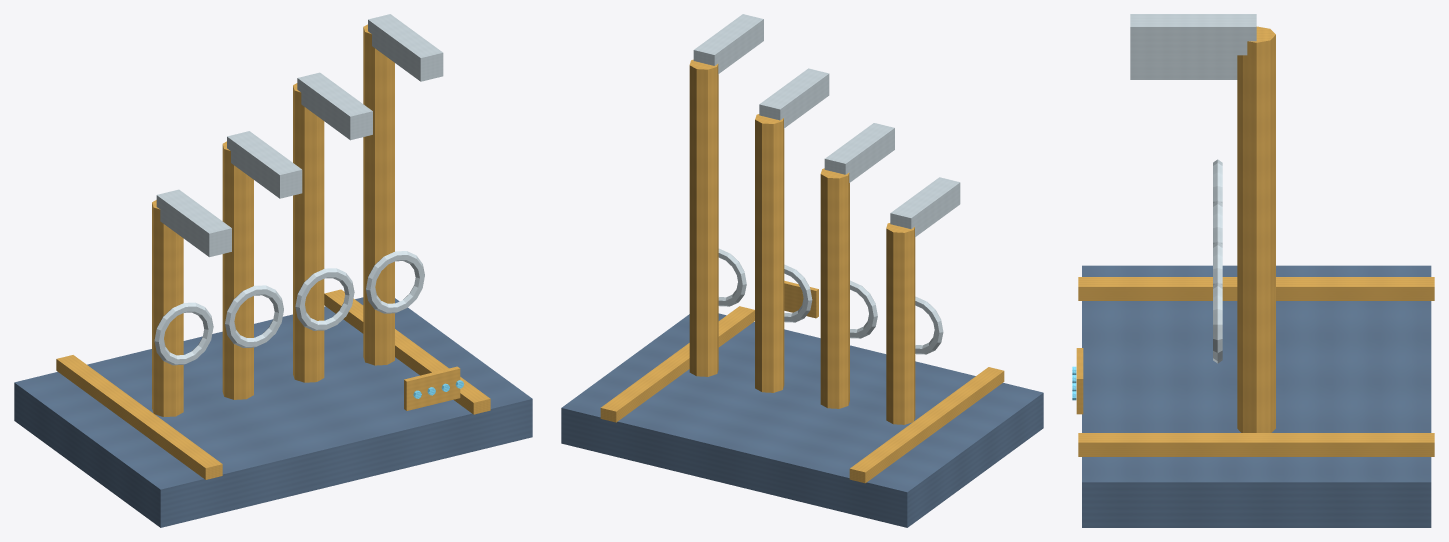
The model's file is atlas100-s054-a02.glb.
3 renders of one model, left to right at view 1: azimuth 30°, elevation 25°; view 2: azimuth 150°, elevation 25°; view 3: azimuth 270°, elevation 25°, orthographic. The views are drawn at different scales.
Parts seen in each view (by area): view 1: atlas100-s054-a02:part-000, atlas100-s054-a02:part-012, atlas100-s054-a02:part-009, atlas100-s054-a02:part-006, atlas100-s054-a02:part-003, atlas100-s054-a02:part-001, atlas100-s054-a02:part-011, atlas100-s054-a02:part-014, atlas100-s054-a02:part-005, atlas100-s054-a02:part-008, atlas100-s054-a02:part-002, atlas100-s054-a02:part-015 (+4 smaller); view 2: atlas100-s054-a02:part-000, atlas100-s054-a02:part-012, atlas100-s054-a02:part-009, atlas100-s054-a02:part-006, atlas100-s054-a02:part-003, atlas100-s054-a02:part-001, atlas100-s054-a02:part-002, atlas100-s054-a02:part-011, atlas100-s054-a02:part-008, atlas100-s054-a02:part-005, atlas100-s054-a02:part-014, atlas100-s054-a02:part-015 (+4 smaller); view 3: atlas100-s054-a02:part-000, atlas100-s054-a02:part-012, atlas100-s054-a02:part-002, atlas100-s054-a02:part-001, atlas100-s054-a02:part-014, atlas100-s054-a02:part-008, atlas100-s054-a02:part-005, atlas100-s054-a02:part-011, atlas100-s054-a02:part-013, atlas100-s054-a02:part-015.
Part boxes in pixels (x1,y1,x2,y2): atlas100-s054-a02:part-000: [14, 297, 532, 527]; atlas100-s054-a02:part-012: [363, 24, 394, 365]; atlas100-s054-a02:part-009: [293, 83, 324, 382]; atlas100-s054-a02:part-006: [222, 141, 253, 399]; atlas100-s054-a02:part-003: [152, 200, 183, 416]; atlas100-s054-a02:part-001: [56, 355, 222, 479]; atlas100-s054-a02:part-011: [297, 72, 372, 140]; atlas100-s054-a02:part-014: [368, 14, 443, 81]; atlas100-s054-a02:part-005: [156, 189, 231, 257]; atlas100-s054-a02:part-008: [227, 131, 302, 198]; atlas100-s054-a02:part-002: [324, 289, 490, 414]; atlas100-s054-a02:part-015: [404, 366, 460, 410]; atlas100-s054-a02:part-000: [561, 313, 1043, 527]; atlas100-s054-a02:part-012: [689, 59, 718, 376]; atlas100-s054-a02:part-009: [755, 114, 784, 392]; atlas100-s054-a02:part-006: [820, 168, 849, 408]; atlas100-s054-a02:part-003: [886, 223, 915, 424]; atlas100-s054-a02:part-001: [849, 367, 1004, 483]; atlas100-s054-a02:part-002: [600, 306, 754, 422]; atlas100-s054-a02:part-011: [759, 68, 829, 128]; atlas100-s054-a02:part-008: [824, 123, 894, 182]; atlas100-s054-a02:part-005: [890, 177, 960, 237]; atlas100-s054-a02:part-014: [693, 14, 763, 73]; atlas100-s054-a02:part-015: [784, 280, 818, 318]; atlas100-s054-a02:part-000: [1082, 265, 1431, 527]; atlas100-s054-a02:part-012: [1237, 26, 1275, 432]; atlas100-s054-a02:part-002: [1078, 433, 1434, 456]; atlas100-s054-a02:part-001: [1078, 277, 1434, 300]; atlas100-s054-a02:part-014: [1130, 14, 1256, 55]; atlas100-s054-a02:part-008: [1130, 63, 1237, 71]; atlas100-s054-a02:part-005: [1130, 71, 1237, 79]; atlas100-s054-a02:part-011: [1130, 55, 1237, 63]; atlas100-s054-a02:part-013: [1213, 282, 1222, 363]; atlas100-s054-a02:part-015: [1076, 348, 1083, 414].
Size of the model in its own units: 2.64 by 2.62 by 1.87.
4 materials, 4 textured.
